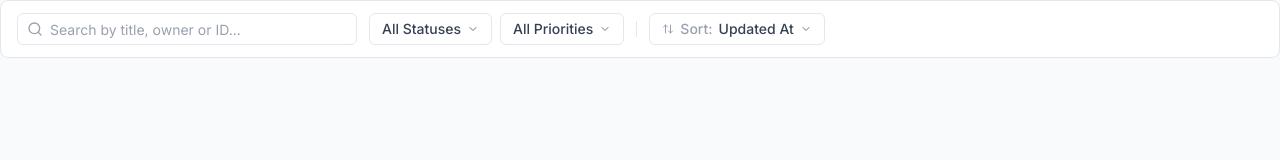
ControlsBar search debounce › clears immediately and cancels a pending search
In the search field named "Search requests": (187, 29) [17, 13, 357, 45], type "stripe"
Wait 300 ms
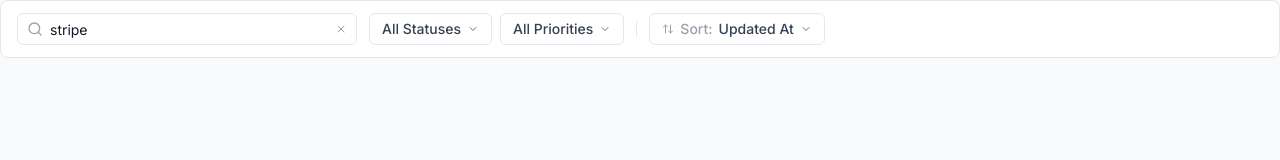
Click the button named "Clear search": (341, 29) [335, 23, 347, 35]
Wait 300 ms
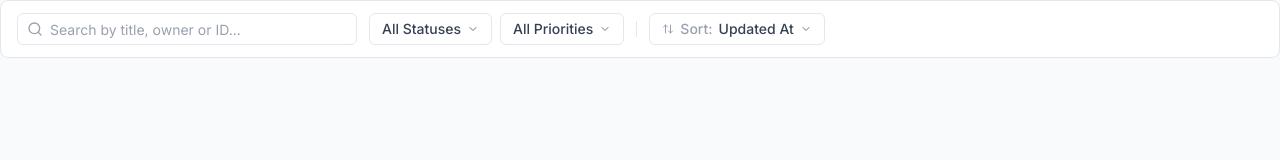
Expected: the search field named "Search requests" is empty, [17, 13, 357, 45]
